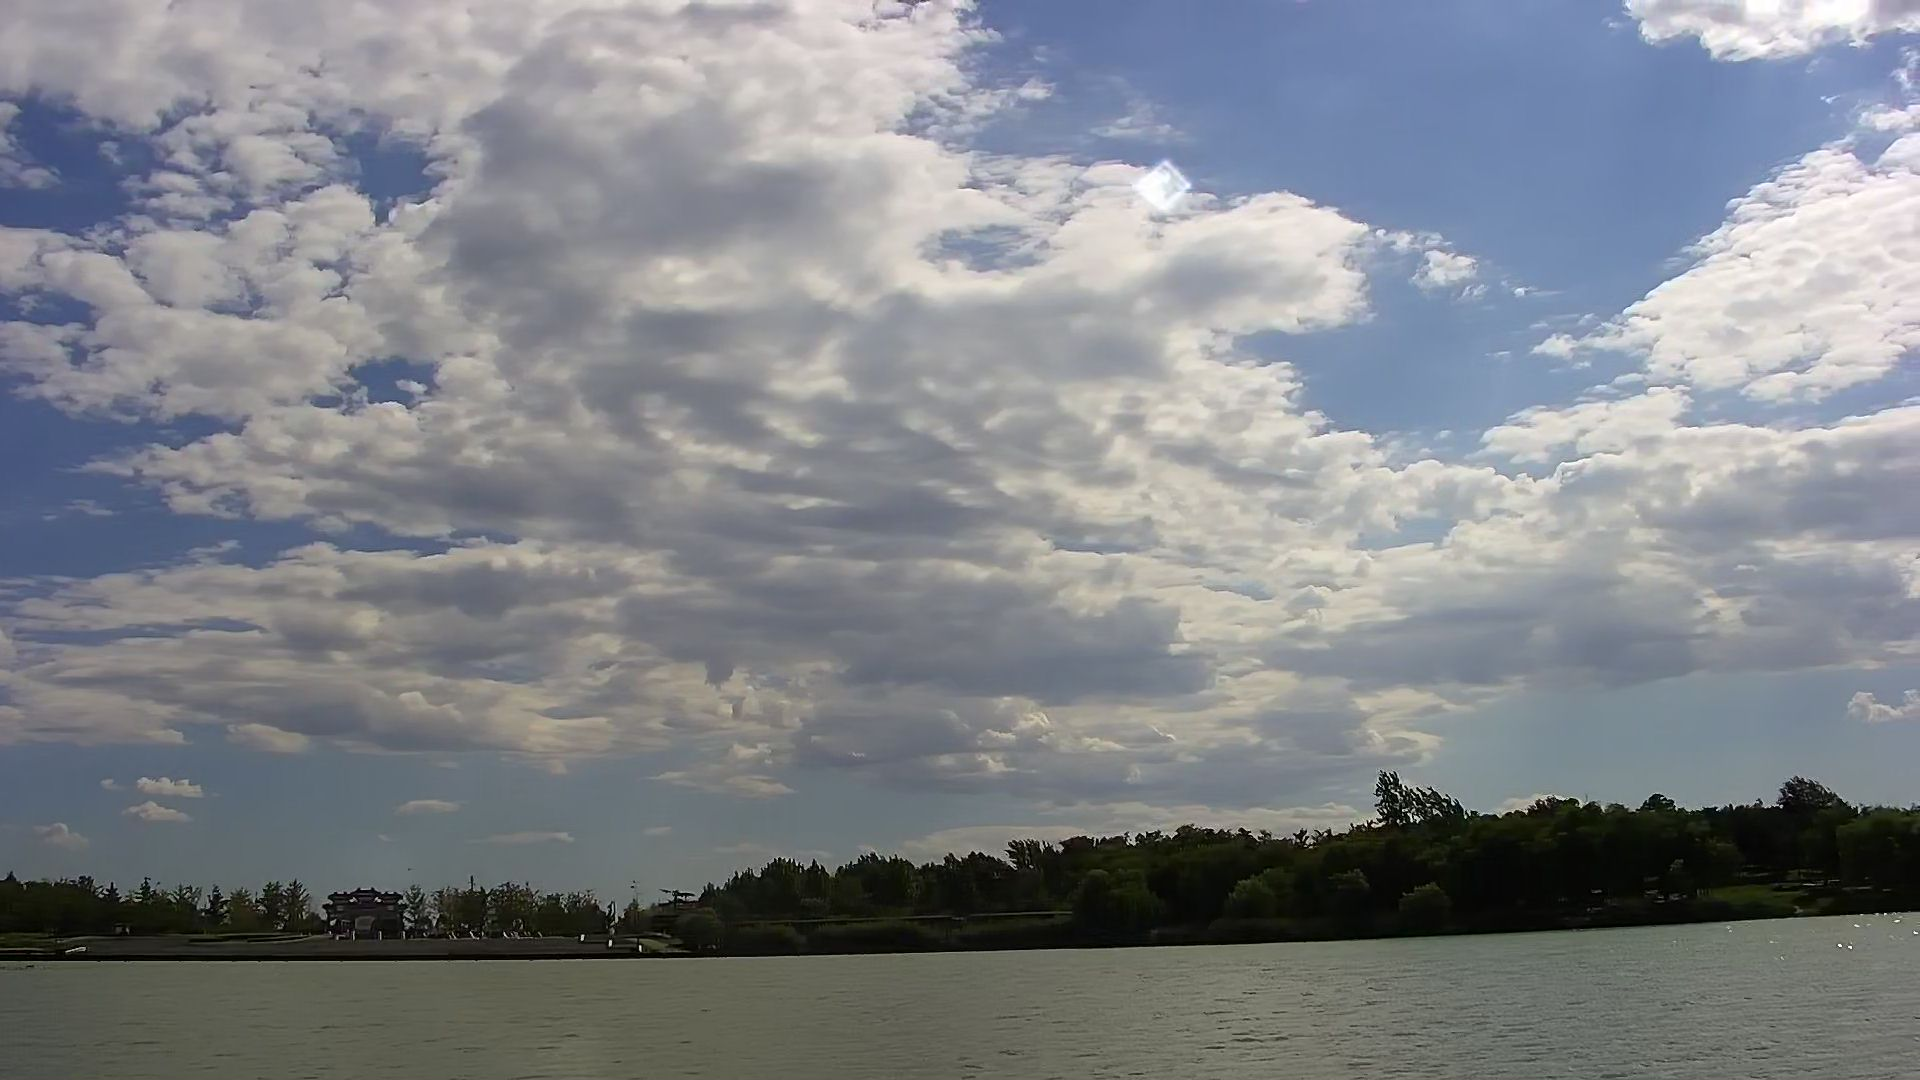harbor: (87, 928, 665, 967)
